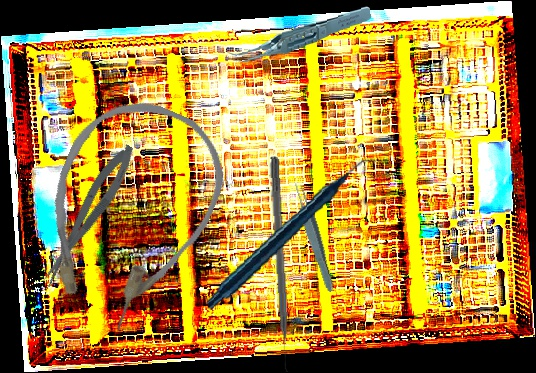Cannula: (12, 80, 243, 347)
Handpiece: (192, 155, 392, 312)
Micro Scissor: (31, 139, 143, 291)
Pusher: (267, 155, 291, 373)
Tissue Forceps: (224, 5, 374, 64), (290, 179, 339, 294)
